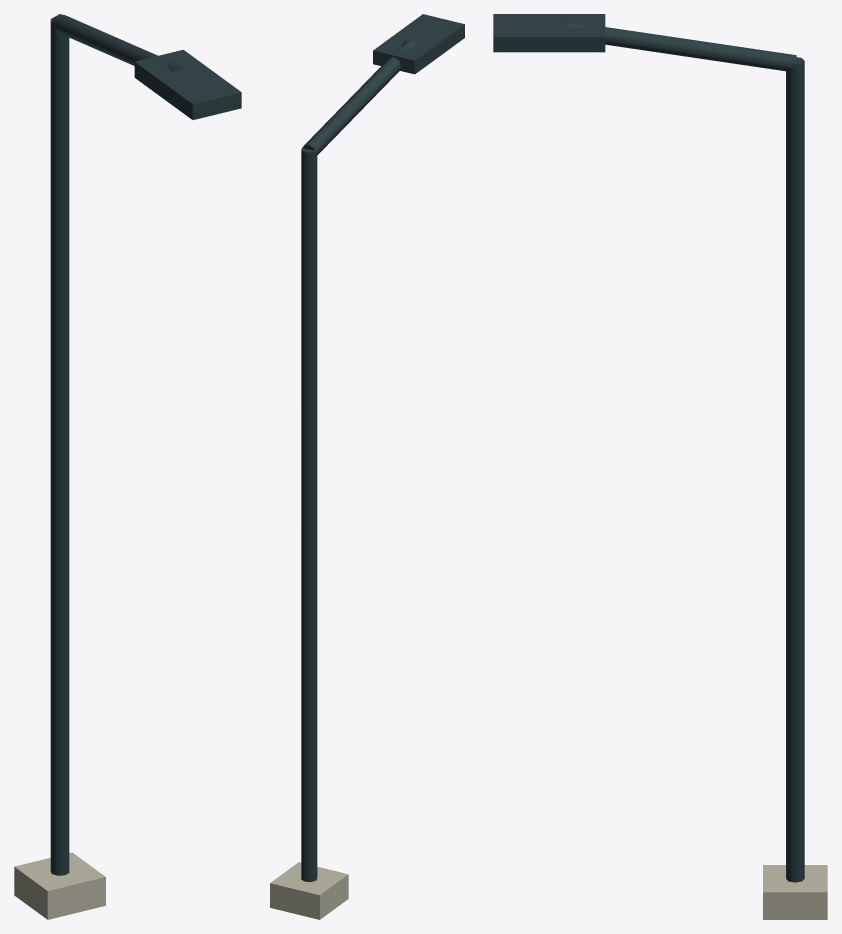
The model's file is street-lamp.glb.
3 renders of one model, left to right at view 1: azimuth 30°, elevation 25°; view 2: azimuth 150°, elevation 25°; view 3: azimuth 270°, elevation 25°, orthographic. The views are drawn at different scales.
Visible parts, largest first — view 1: Street_lamp_Charcoal_frames, Street_lamp_Paving; view 2: Street_lamp_Charcoal_frames, Street_lamp_Paving; view 3: Street_lamp_Charcoal_frames, Street_lamp_Paving.
Boxes of the visible parts, bbox=[...] form: Street_lamp_Charcoal_frames: bbox=[50, 14, 241, 875]; Street_lamp_Paving: bbox=[14, 852, 105, 919]; Street_lamp_Charcoal_frames: bbox=[301, 14, 464, 881]; Street_lamp_Paving: bbox=[270, 862, 348, 919]; Street_lamp_Charcoal_frames: bbox=[493, 14, 804, 882]; Street_lamp_Paving: bbox=[763, 865, 827, 919].
Size of the model in its own units: 0.38 by 5.75 by 1.97.
